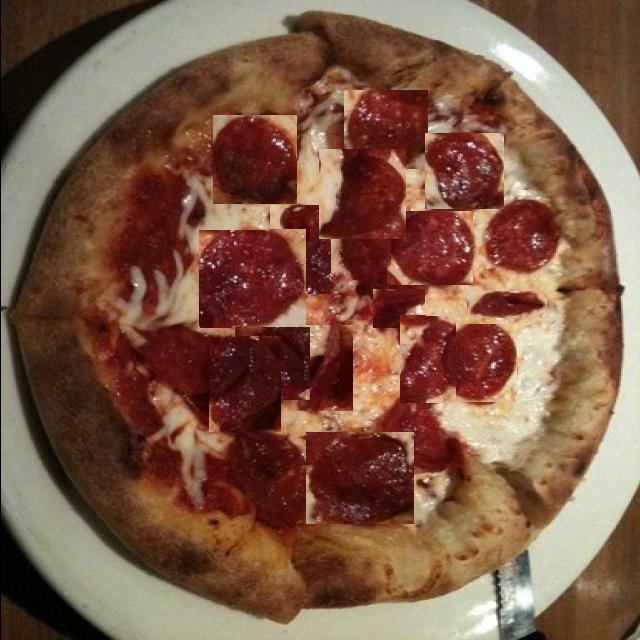pepperoni: (198, 230, 305, 328), (305, 432, 413, 524), (230, 430, 314, 530), (318, 149, 405, 239), (212, 115, 296, 204), (208, 337, 280, 432), (343, 90, 427, 169), (386, 211, 472, 285), (140, 326, 224, 400), (422, 133, 502, 209), (444, 324, 516, 402), (487, 198, 562, 272), (234, 328, 309, 402), (269, 206, 330, 296), (386, 395, 456, 471), (295, 325, 352, 411), (399, 316, 455, 403), (466, 291, 546, 318), (372, 290, 424, 330)
pizza: (7, 12, 623, 624)
